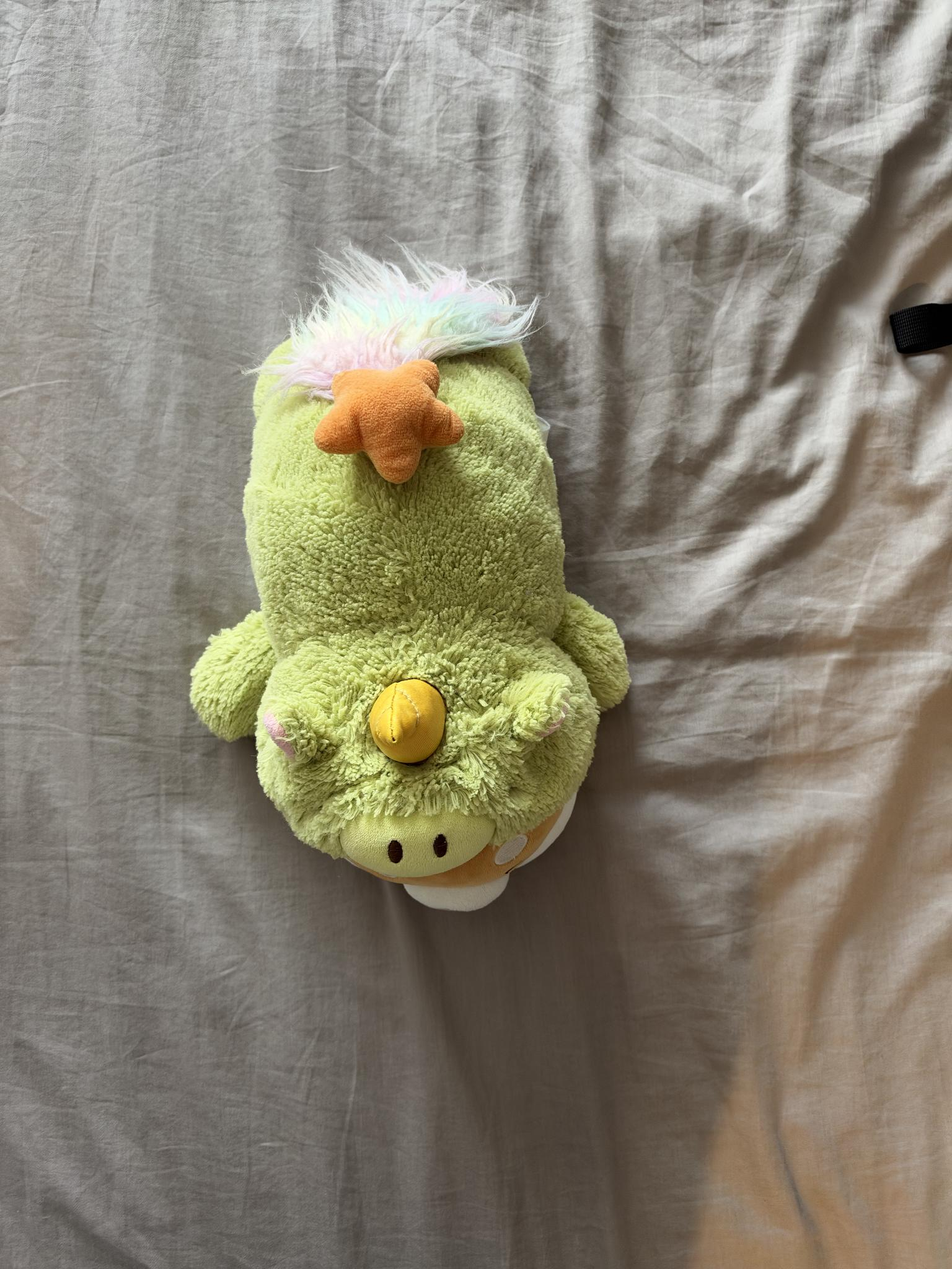peluche_martin: (184, 240, 629, 917)
